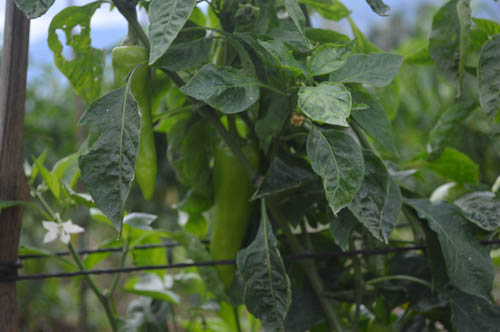ChiliPepper: (211, 148, 257, 288), (116, 46, 157, 201)
